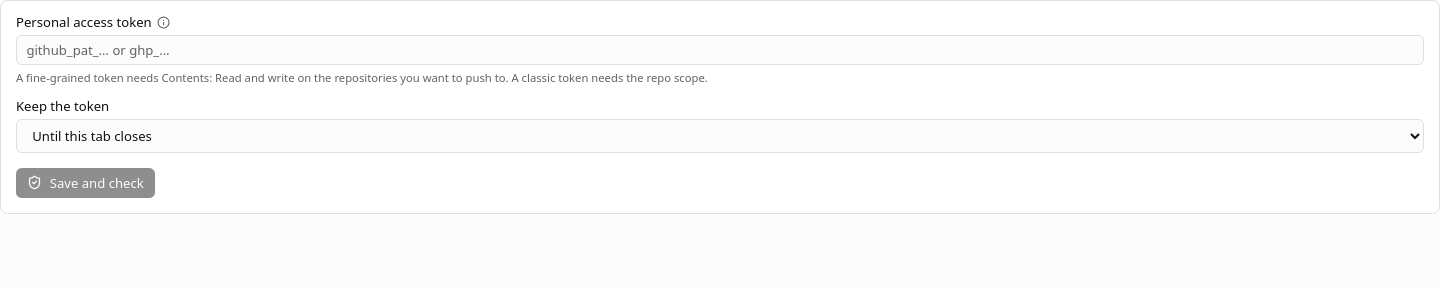
the GitHub settings card › says a classic token without the scope cannot push, because GitHub says so
The image size is (1440, 287).
Step 1. Type "ghp_0123456789abcdefghij0123456789abcd" into the password field labelled "Personal access token" → (720, 50), box [16,35,1424,65]
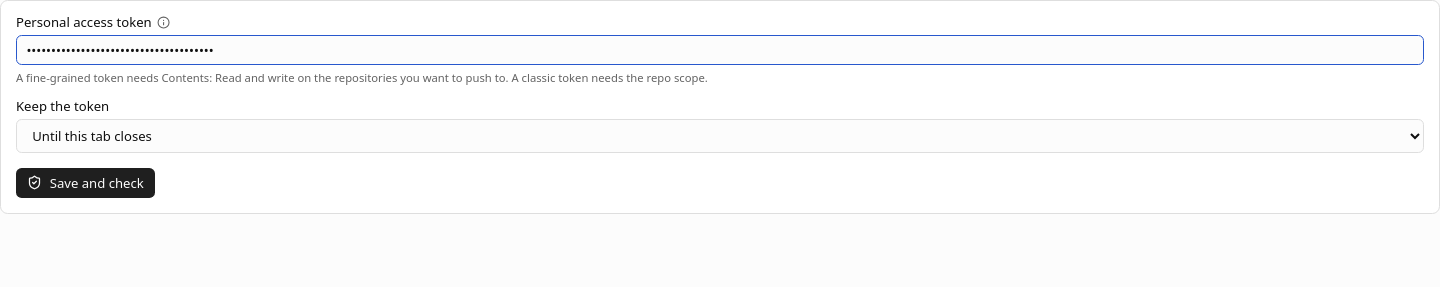
Step 2. Click the button "Save and check" → (86, 183), box [16,168,155,198]
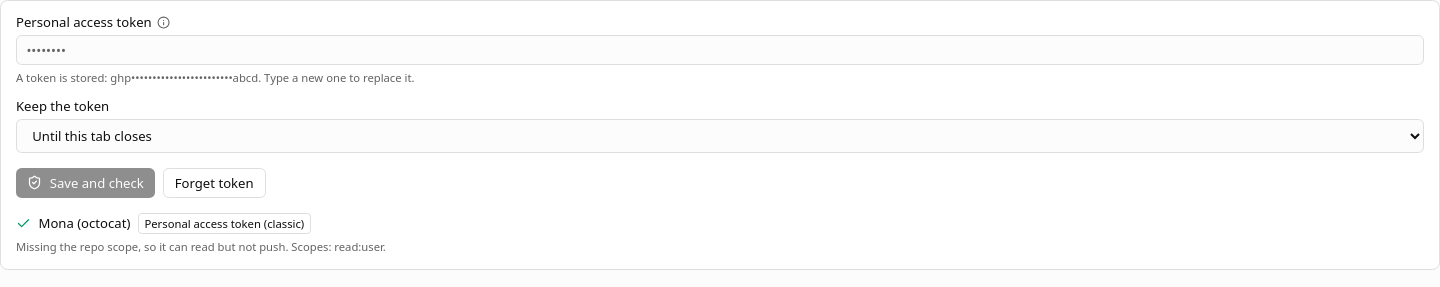
Check: the text "Missing the repo scope" is shown, box [16,239,386,254]
